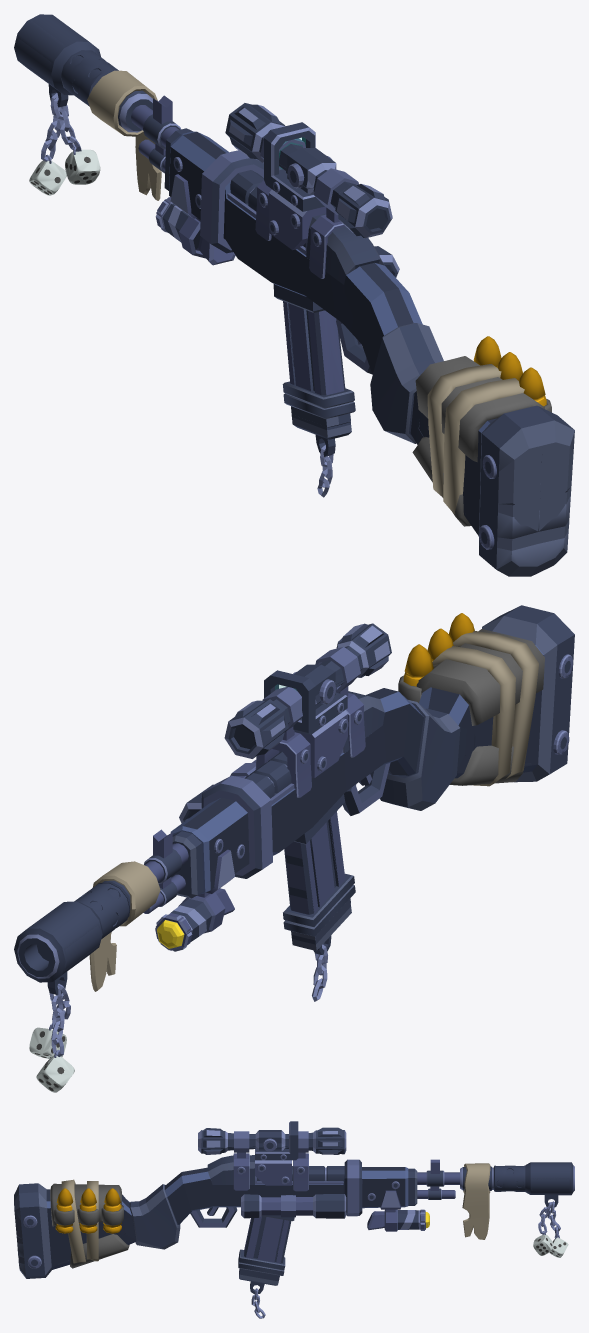
File: Rifle.fbx
3 renders of one model, top to bottom at view 1: azimuth 30°, elevation 25°; view 2: azimuth 150°, elevation 25°; view 3: azimuth 270°, elevation 25°, orthographic. The views are drawn at different scales.
Visible parts, largest first — view 1: RifleBase, RifleSapy3, RifleSapy2, RifleMuffler3, RifleAim3, RifleMuffler2, RifleSapy1, RiflePatron2, RifleAim1, RifleAim2, RifleFonar2, RiflePatron3 (+1 smaller); view 2: RifleBase, RifleSapy2, RifleMuffler2, RifleAim3, RifleSapy3, RifleMuffler3, RifleAim2, RiflePatron3, RifleAim1, RiflePatron2, RifleFonar2, RifleSapy1 (+1 smaller); view 3: RifleBase, RifleAim3, RifleSapy3, RifleMuffler2, RifleSapy2, RifleMuffler3, RiflePatron2, RifleAim1, RifleFonar2, RifleAim2, RiflePatron3, RifleSapy1 (+1 smaller).
Part boxes in pixels (left/top/right/bottom): RifleBase: left=164, top=128, right=443, bottom=443; RifleSapy3: left=410, top=336, right=574, bottom=576; RifleSapy2: left=413, top=356, right=571, bottom=568; RifleMuffler3: left=14, top=14, right=181, bottom=195; RifleAim3: left=226, top=103, right=399, bottom=278; RifleMuffler2: left=16, top=15, right=178, bottom=200; RifleSapy1: left=414, top=395, right=573, bottom=568; RiflePatron2: left=282, top=301, right=354, bottom=427; RifleAim1: left=264, top=122, right=326, bottom=250; RifleAim2: left=225, top=103, right=388, bottom=278; RifleFonar2: left=155, top=174, right=235, bottom=265; RiflePatron3: left=283, top=314, right=355, bottom=497; RifleBase: left=170, top=688, right=460, bottom=898; RifleSapy2: left=416, top=616, right=574, bottom=786; RifleMuffler2: left=14, top=831, right=188, bottom=991; RifleAim3: left=179, top=623, right=391, bottom=823; RifleSapy3: left=398, top=605, right=574, bottom=785; RifleMuffler3: left=24, top=829, right=188, bottom=1092; RifleAim2: left=224, top=623, right=391, bottom=797; RiflePatron3: left=283, top=818, right=355, bottom=1001; RifleAim1: left=264, top=670, right=348, bottom=777; RiflePatron2: left=283, top=811, right=354, bottom=941; RifleFonar2: left=155, top=849, right=234, bottom=951; RifleSapy1: left=457, top=614, right=573, bottom=775; RifleBase: left=129, top=1155, right=417, bottom=1252; RifleAim3: left=198, top=1127, right=346, bottom=1218; RifleSapy3: left=14, top=1183, right=136, bottom=1278; RifleMuffler2: left=417, top=1162, right=574, bottom=1239; RifleSapy2: left=14, top=1179, right=135, bottom=1278; RifleMuffler3: left=417, top=1159, right=571, bottom=1257; RiflePatron2: left=239, top=1216, right=289, bottom=1279; RifleAim1: left=255, top=1121, right=298, bottom=1185; RifleFonar2: left=367, top=1190, right=429, bottom=1231; RifleAim2: left=201, top=1130, right=346, bottom=1191; RiflePatron3: left=238, top=1220, right=291, bottom=1318; RifleSapy1: left=14, top=1208, right=135, bottom=1268.
Bounding box in the file's own units: 1.06 × 3.28 × 8.67.
